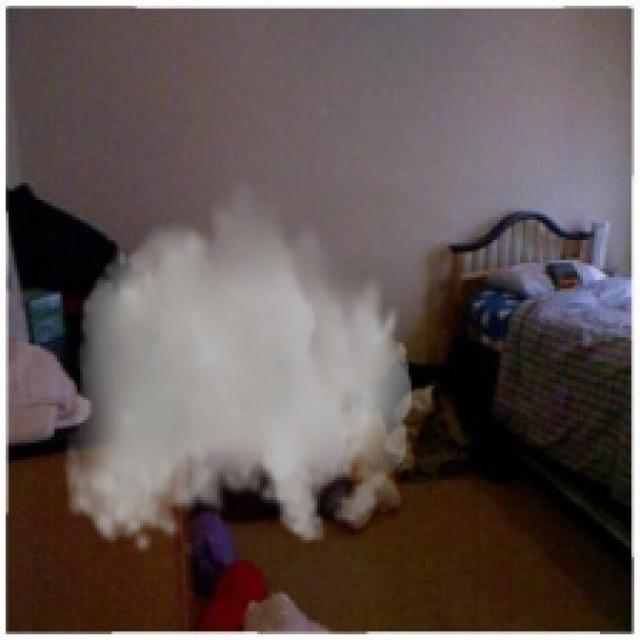smoke: (63, 175, 411, 554)
